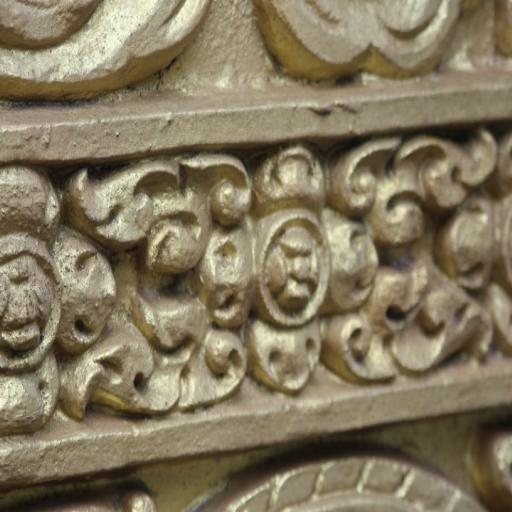hoa: (199, 168, 384, 388), (3, 176, 115, 449)
